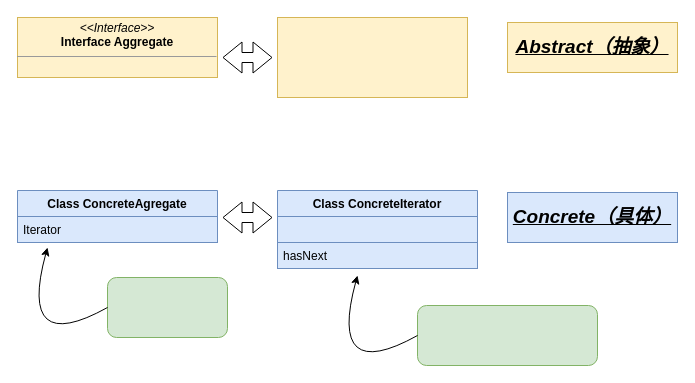
Image size: 695x383. Some labels were removed from this diagram. Here are the shapes that lost their labels. From the top down, the centre of each, then its label:
At pixel 372 57: "<<Interface>> Interface Iterator fun hasNext() fun next()".
At pixel 377 229: "aggregate".
At pixel 167 307: "BookShelfクラス 集合体の具体実装".
At pixel 507 335: "BookShelfIteratorクラス 集合体の数え上げ具体実装".
